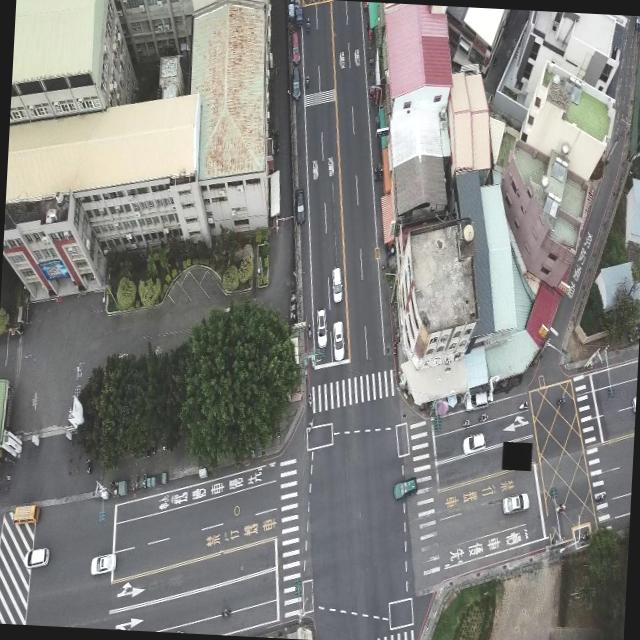bike: (593, 488, 607, 506), (302, 70, 314, 90), (554, 393, 568, 407), (220, 606, 233, 620), (307, 389, 316, 409), (85, 456, 94, 474), (553, 504, 568, 514), (518, 400, 530, 412), (307, 418, 316, 432), (478, 412, 488, 424), (460, 420, 472, 428), (305, 16, 311, 30)
bus: (12, 505, 44, 529)
car: (90, 548, 118, 580), (21, 546, 56, 571), (330, 318, 349, 364), (501, 491, 530, 519), (326, 264, 346, 304), (291, 185, 310, 226), (314, 302, 331, 347), (462, 431, 488, 456), (394, 476, 418, 500), (468, 387, 493, 410), (289, 30, 305, 62), (290, 65, 303, 104)
